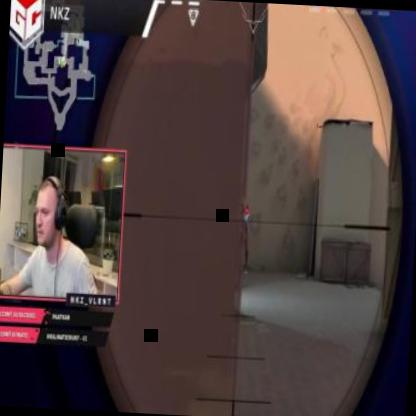enemy: (234, 200, 250, 272)
enemy_head: (240, 200, 247, 214)
